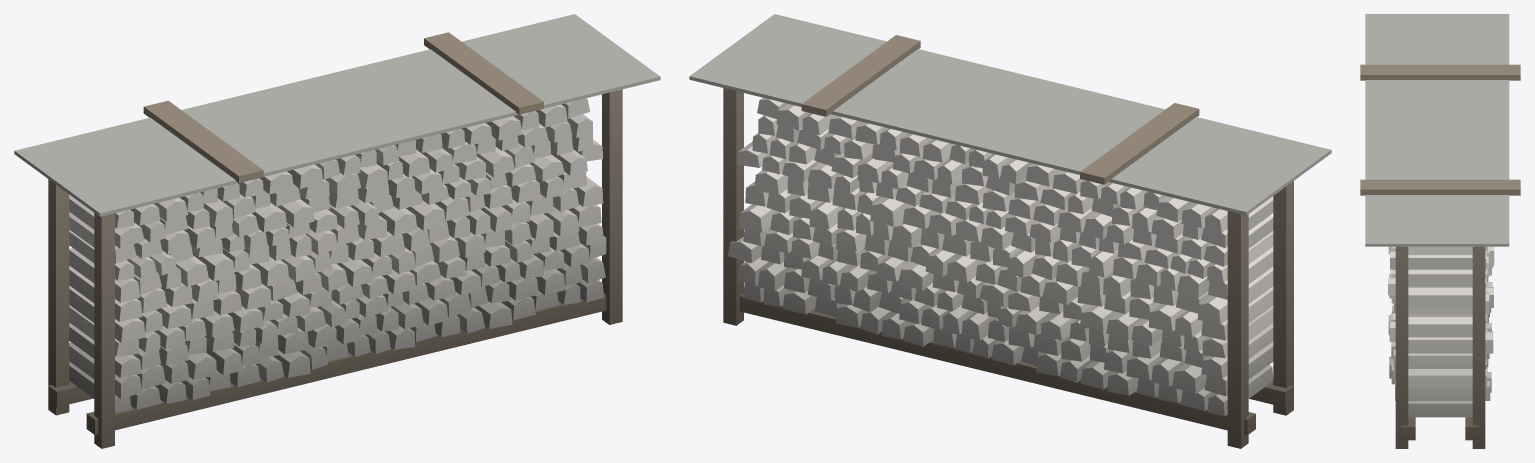
Rendered from firewood_stack.glb.
3 renders of one model, left to right at view 1: azimuth 30°, elevation 25°; view 2: azimuth 150°, elevation 25°; view 3: azimuth 270°, elevation 25°, orthographic. The views are drawn at different scales.
Visible parts, largest first — view 1: firewood_stack_LOD0; view 2: firewood_stack_LOD0; view 3: firewood_stack_LOD0.
Boxes of the visible parts, bbox=[...] form: firewood_stack_LOD0: bbox=[14, 14, 660, 448]; firewood_stack_LOD0: bbox=[689, 14, 1331, 448]; firewood_stack_LOD0: bbox=[1360, 14, 1520, 448].
Size of what is drawn, in the model's own units: 3.4 by 1.5 by 1.
